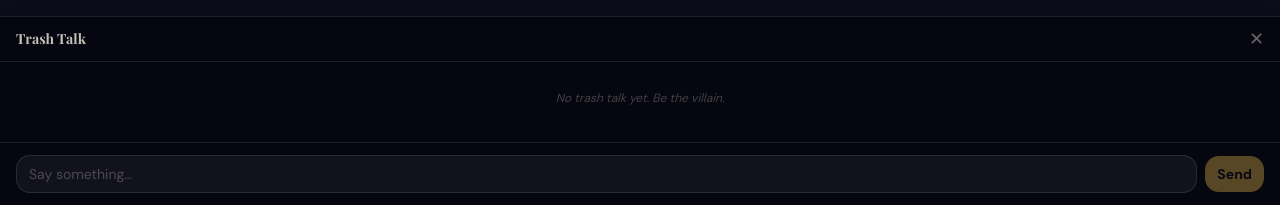
Test case: ChatPanel › enables the Send button when the input has non-whitespace text
Type "Hello" into the field with test id "chat-input" at (607, 174), box [16, 155, 1197, 193]
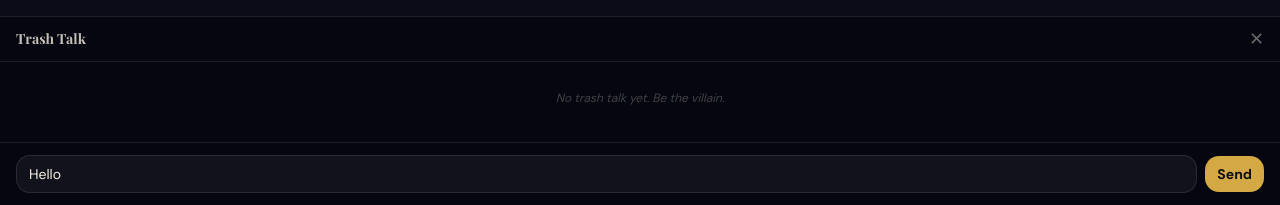
Now the button with test id "chat-send-btn" is enabled, box [1205, 156, 1264, 192]
